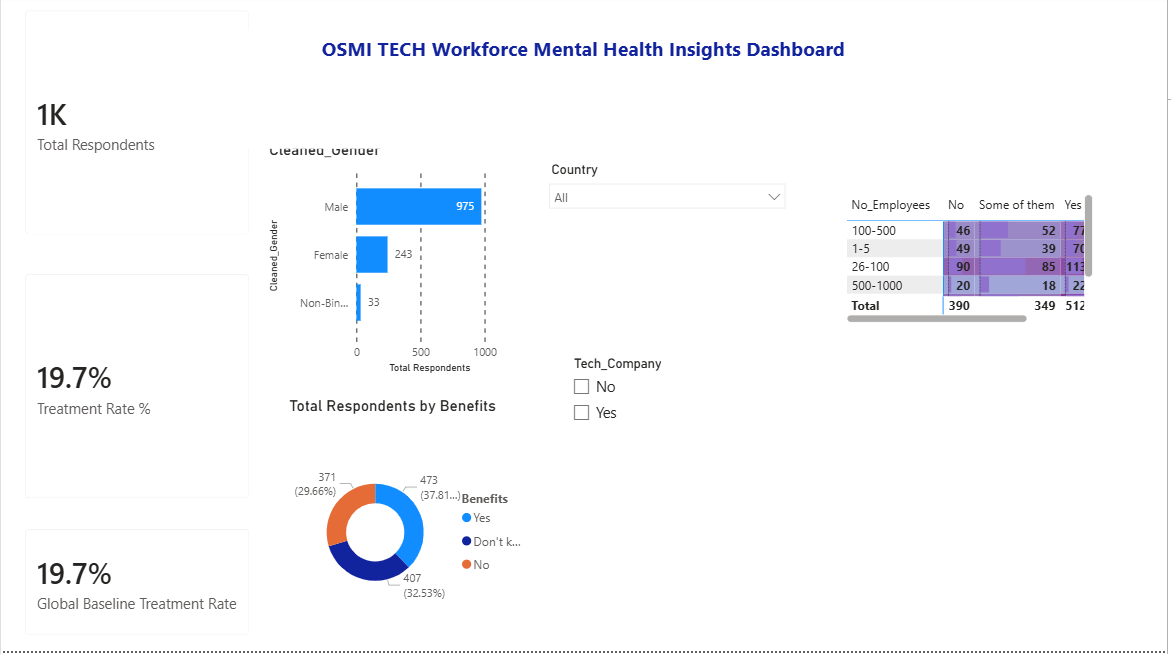

What the dashboard file says about the page in this screenshot:
{"tool":"powerbi","page":{"name":"Page 1","canvas":[1280,720],"ordinal":0},"visuals":[{"type":"cardVisual","fields":{"Data":["v_CleanedMentalHealthData.Total Respondents"]},"box":[10,0,280,280],"z":0},{"type":"cardVisual","fields":{"Data":["v_CleanedMentalHealthData.Treatment Rate %"]},"box":[10,290,280,280],"z":1},{"type":"cardVisual","fields":{"Data":["v_CleanedMentalHealthData.Global Baseline Treatment Rate"]},"box":[10,570,280,150],"z":2},{"type":"clusteredBarChart","fields":{"Category":["v_CleanedMentalHealthData.Cleaned_Gender"],"Y":["v_CleanedMentalHealthData.Total Respondents"]},"box":[289.5,140,279.9,279.9],"z":3},{"type":"donutChart","fields":{"Category":["v_CleanedMentalHealthData.Benefits"],"Y":["v_CleanedMentalHealthData.Total Respondents"]},"box":[311.5,440.5,279.9,279.9],"z":4},{"type":"slicer","fields":{"Values":["v_CleanedMentalHealthData.Country"]},"box":[591.4,178.4,279.9,150.9],"z":5},{"type":"slicer","fields":{"Values":["v_CleanedMentalHealthData.Tech_Company"]},"box":[616.1,391.1,279.9,279.9],"z":6},{"type":"pivotTable","fields":{"Rows":["v_CleanedMentalHealthData.No_Employees"],"Columns":["v_CleanedMentalHealthData.Supervisor"],"Values":["v_CleanedMentalHealthData.Total Respondents"]},"box":[923.5,214.1,279.9,150.9],"z":7},{"type":"textbox","box":[172.9,38.4,933.1,130.4],"z":8}]}

Visuals, with their boxes in screenshot pixels (x1, y1, x2, y2), scaled from the page's 1280x720 canvas onto the 1171x654 screenshot:
cardVisual - v_CleanedMentalHealthData.Total Respondents: left=9, top=0, right=265, bottom=254
cardVisual - v_CleanedMentalHealthData.Treatment Rate %: left=9, top=263, right=265, bottom=518
cardVisual - v_CleanedMentalHealthData.Global Baseline Treatment Rate: left=9, top=518, right=265, bottom=653
clusteredBarChart - v_CleanedMentalHealthData.Cleaned_Gender x v_CleanedMentalHealthData.Total Respondents: left=265, top=127, right=521, bottom=381
donutChart - v_CleanedMentalHealthData.Benefits x v_CleanedMentalHealthData.Total Respondents: left=285, top=400, right=541, bottom=653
slicer - v_CleanedMentalHealthData.Country: left=541, top=162, right=797, bottom=299
slicer - v_CleanedMentalHealthData.Tech_Company: left=564, top=355, right=820, bottom=609
pivotTable - v_CleanedMentalHealthData.No_Employees x v_CleanedMentalHealthData.Supervisor: left=845, top=194, right=1101, bottom=332
textbox: left=158, top=35, right=1012, bottom=153
